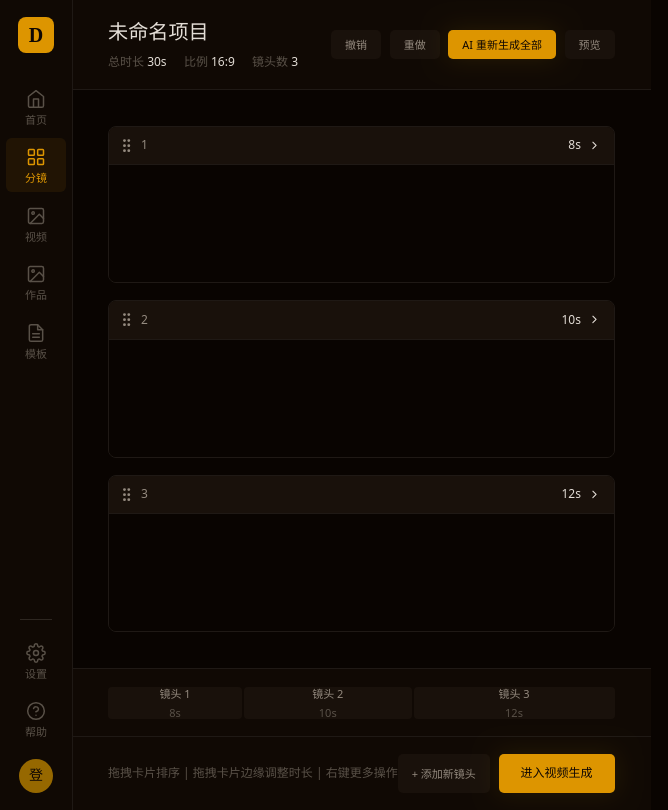
Test: StoryboardPage › 右键菜单 › 通过右键菜单复制镜头
This screenshot has width=668, height=810.
Right-click the element with class "shot-card" showing "1 8s 镜头描述 运镜方式 音效风格 备注": (361,204) [108, 126, 614, 283]
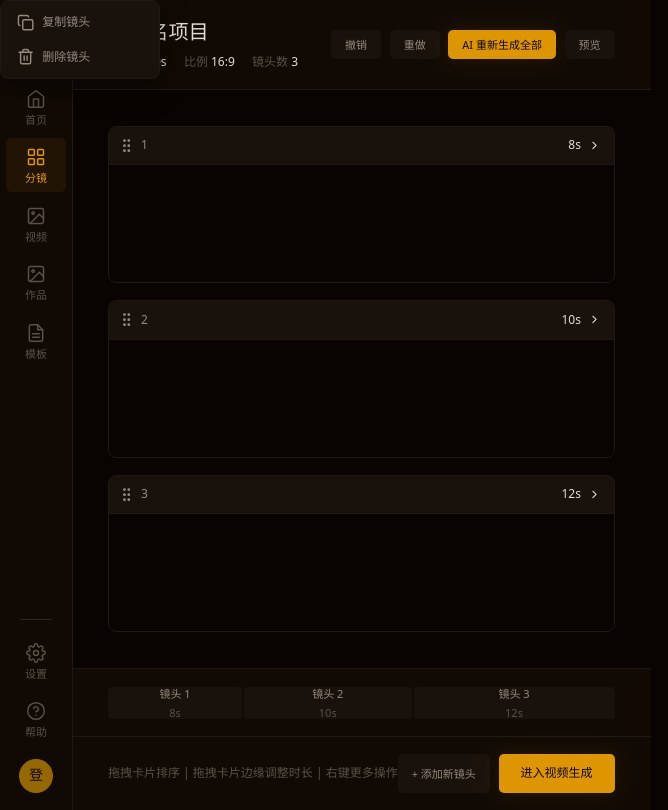
// 点击复制（第一个按钮是复制）
Click the button "复制镜头": (80,22) [5, 5, 155, 40]
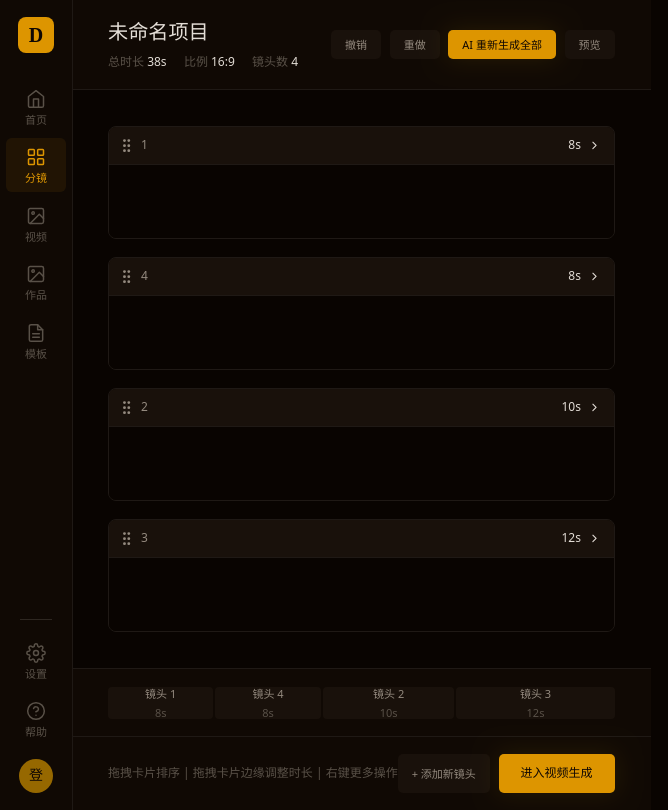
Expected: the number of elements with class "shot-card" is 4, [108, 126, 614, 239]; [108, 257, 614, 370]; [108, 388, 614, 501]; [108, 519, 614, 632]
